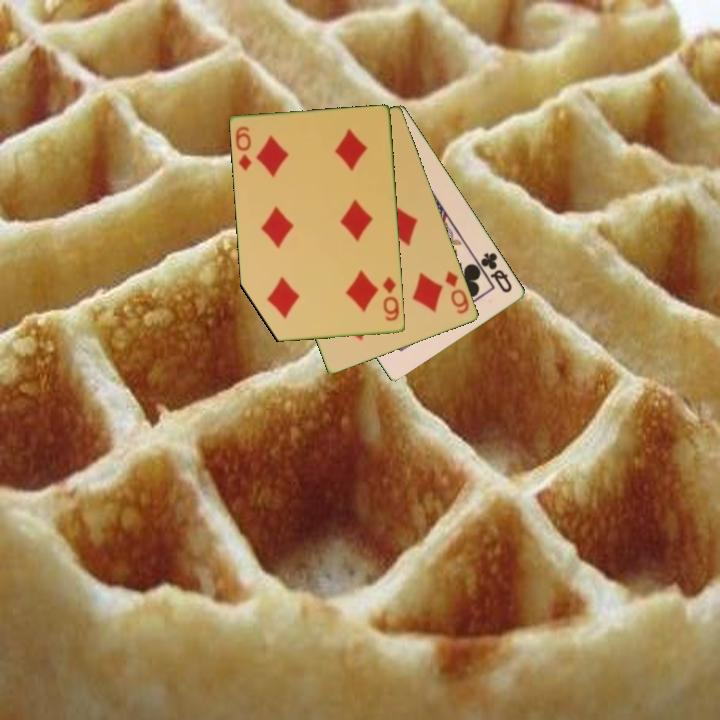6d: (442, 267, 472, 317), (379, 273, 402, 324), (232, 123, 254, 174)
Qc: (477, 249, 515, 296)
